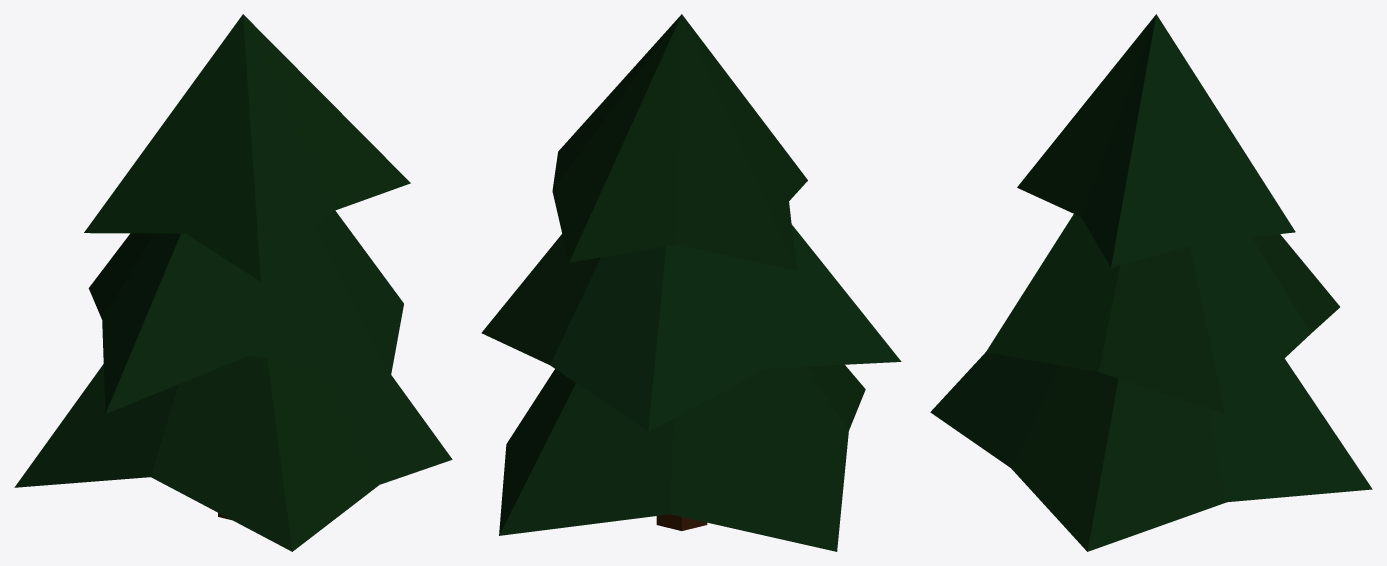
File: Tree003.FBX
The picture shows the model from 3 angles, left to right: view 1: azimuth 30°, elevation 25°; view 2: azimuth 150°, elevation 25°; view 3: azimuth 270°, elevation 25°; orthographic projection. The views are drawn at different scales.
Visible parts, largest first — view 1: Pyramid001; view 2: Pyramid001; view 3: Pyramid001.
Part boxes in pixels (x1=…): Pyramid001: x1=14, y1=14, x2=452, y2=551; Pyramid001: x1=481, y1=14, x2=901, y2=551; Pyramid001: x1=930, y1=14, x2=1372, y2=551.
Size of the model in its own units: 43.96 by 57.13 by 46.96.
